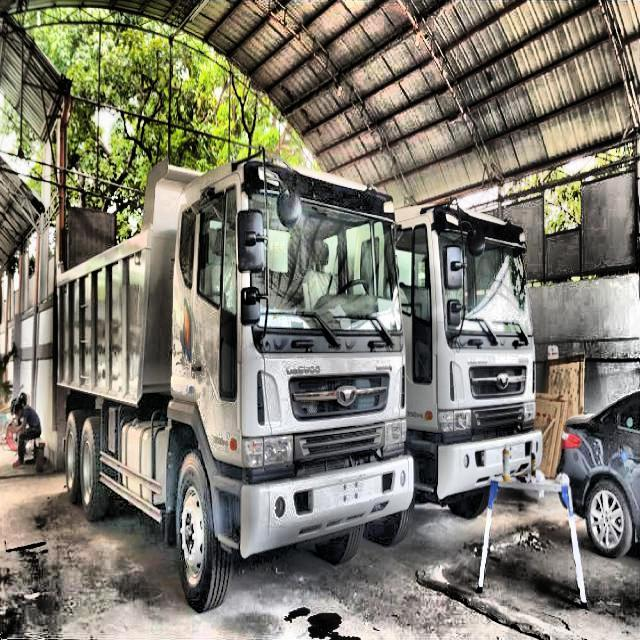dump_truck: (57, 155, 413, 611), (366, 202, 543, 548)
